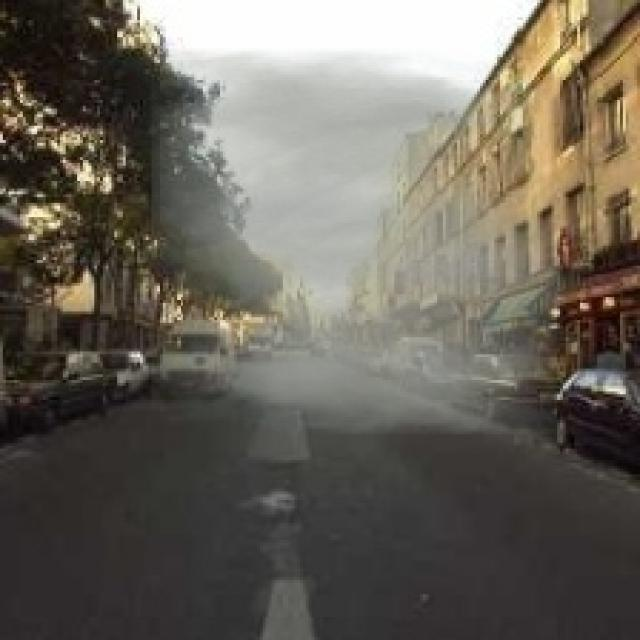Smoke: (151, 48, 563, 434)
